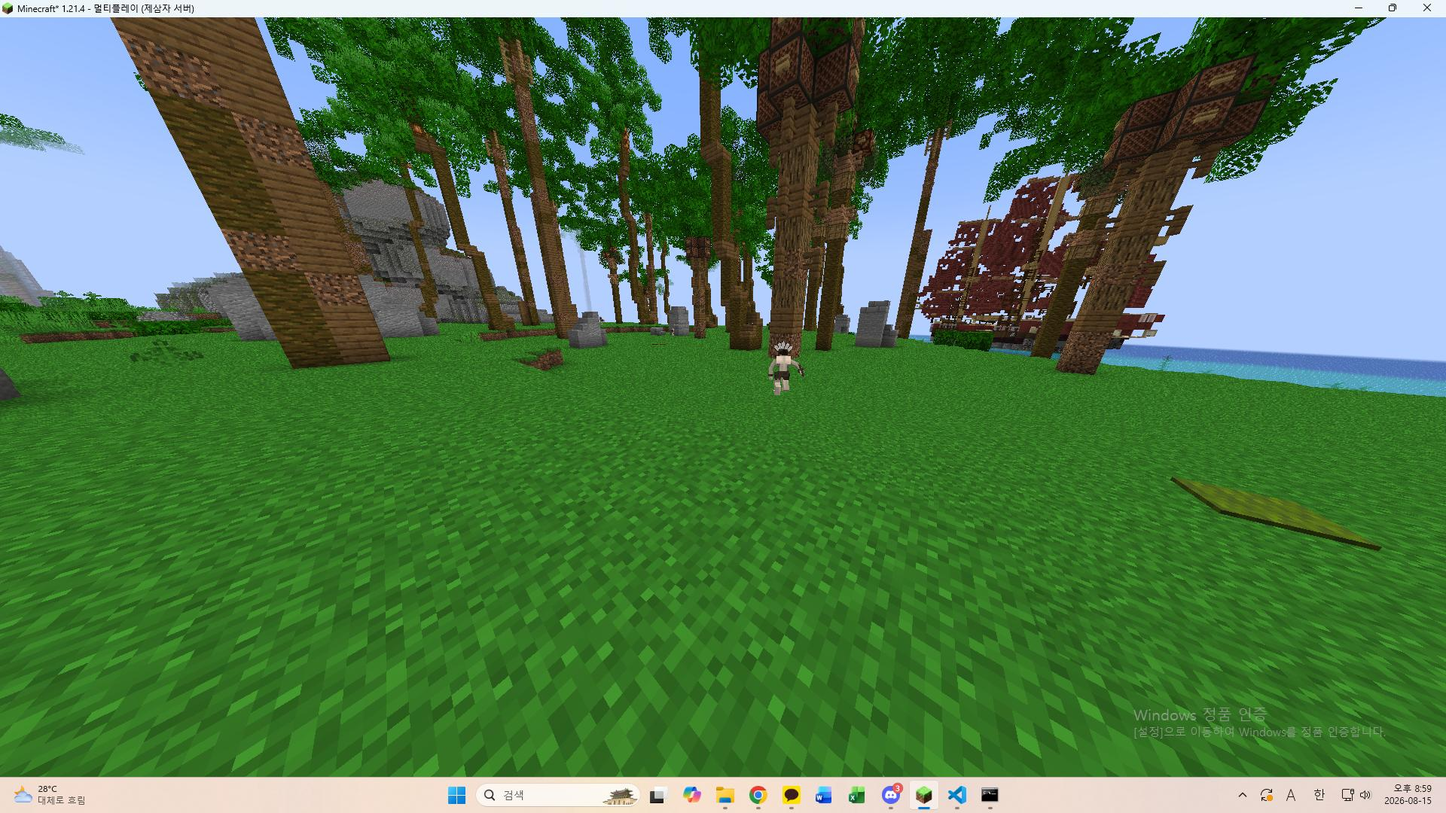bow_indian: (765, 338, 806, 408)
